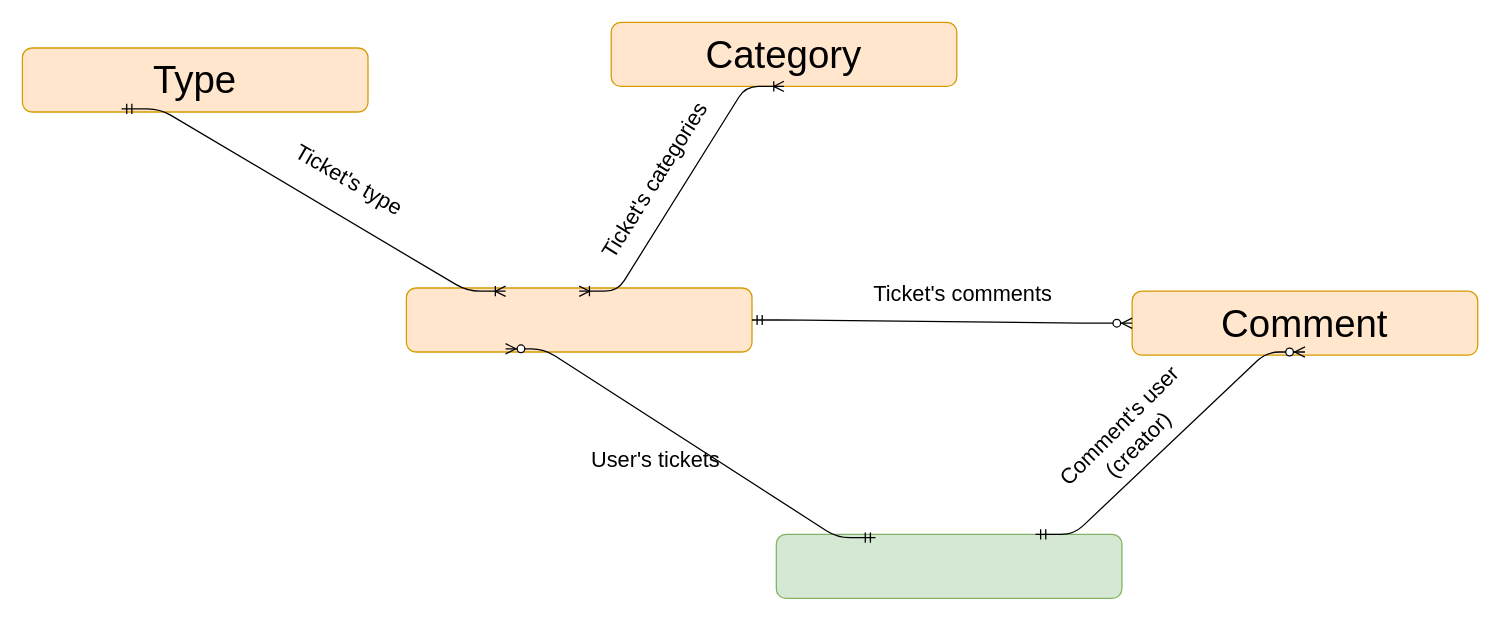
Some shapes in this 1500 by 621 pixel diagram are drawn without their labels. The shapes that lost their labels are listed below. From the top down, each one's centre as x and y in pixels, then its label:
At (578,319): "Ticket".
At (948,565): "User".
